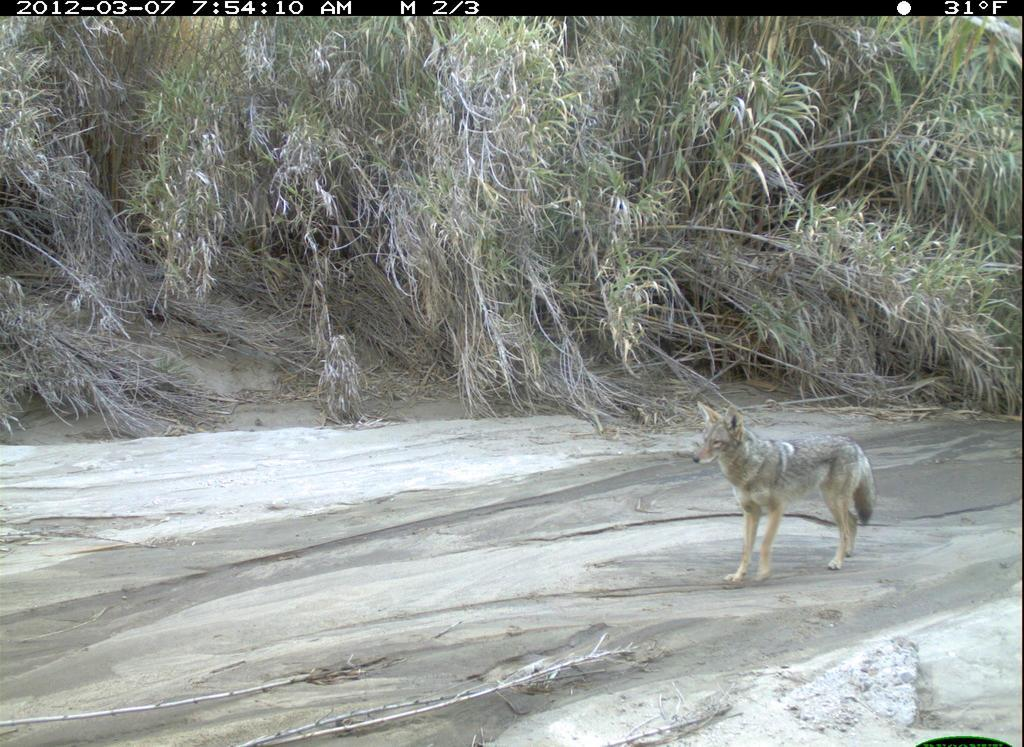coyote: (690, 393, 876, 591)
